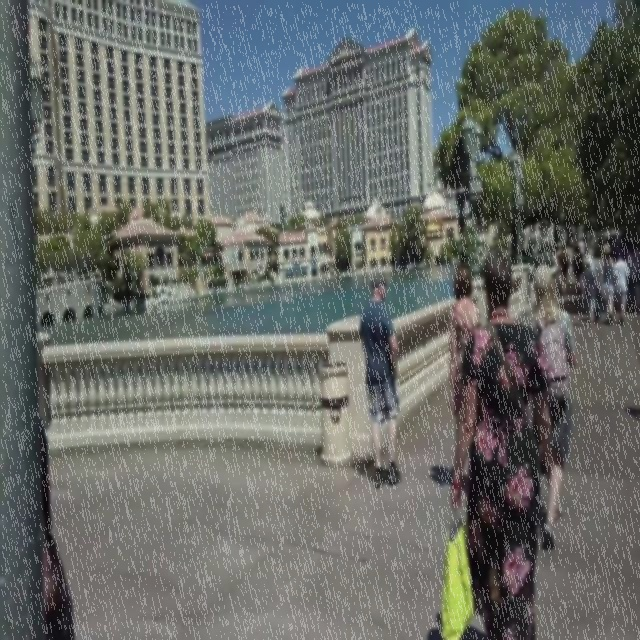pessoa: (448, 238, 556, 639), (526, 263, 578, 551), (360, 274, 404, 491), (446, 264, 482, 434), (428, 458, 472, 497), (599, 242, 617, 328), (612, 246, 630, 326), (351, 452, 396, 484), (582, 255, 598, 328), (626, 246, 640, 316), (571, 242, 585, 298), (560, 251, 570, 297), (597, 230, 618, 248), (624, 401, 640, 424), (576, 238, 584, 270), (573, 313, 588, 329), (542, 244, 552, 266), (587, 237, 594, 266)
